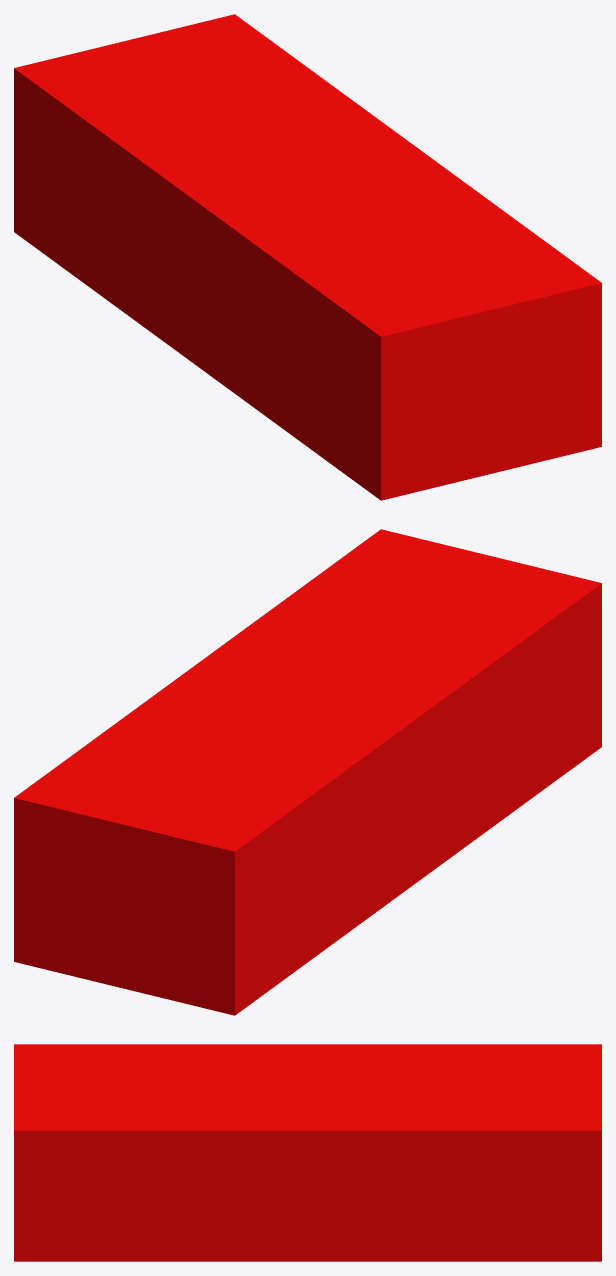
The model's file is metacarpal3_lvs_col.dae.
3 views of the same model, one above another, from view 1: azimuth 30°, elevation 25°; view 2: azimuth 150°, elevation 25°; view 3: azimuth 270°, elevation 25° (orthographic). The views are drawn at different scales.
Visible parts, largest first — view 1: node0; view 2: node0; view 3: node0.
Boxes of the visible parts, <box> form: node0: <box>14,14,601,500</box>; node0: <box>14,529,601,1015</box>; node0: <box>14,1044,601,1261</box>.
Bounding box in the file's own units: 0.027 × 0.0191 × 0.0777.
